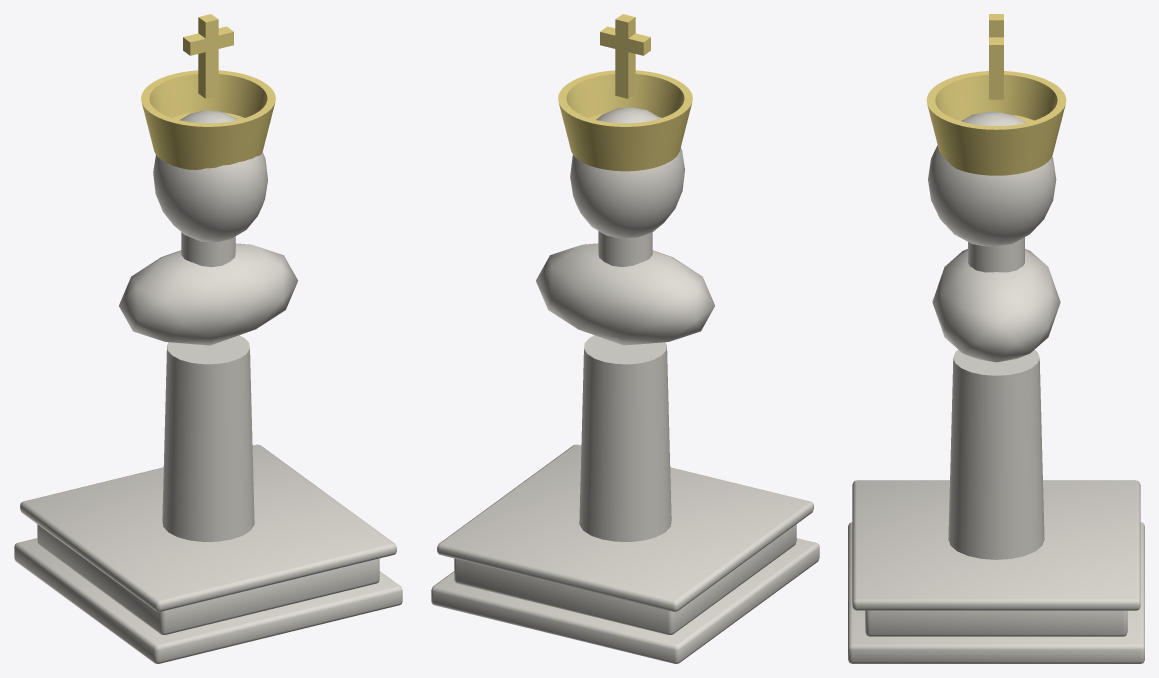
Rendered from Louvre_Rey.fbx.
3 views of the same model, side by side, from view 1: azimuth 30°, elevation 25°; view 2: azimuth 150°, elevation 25°; view 3: azimuth 270°, elevation 25° (orthographic). The views are drawn at different scales.
Parts seen in each view (by area): view 1: Louvre_Rey; view 2: Louvre_Rey; view 3: Louvre_Rey.
Part boxes in pixels (x1=…): Louvre_Rey: x1=14, y1=14, x2=402, y2=663; Louvre_Rey: x1=431, y1=14, x2=819, y2=663; Louvre_Rey: x1=848, y1=14, x2=1144, y2=663.
Size of the model in its own units: 0.68 by 1.48 by 0.68.
